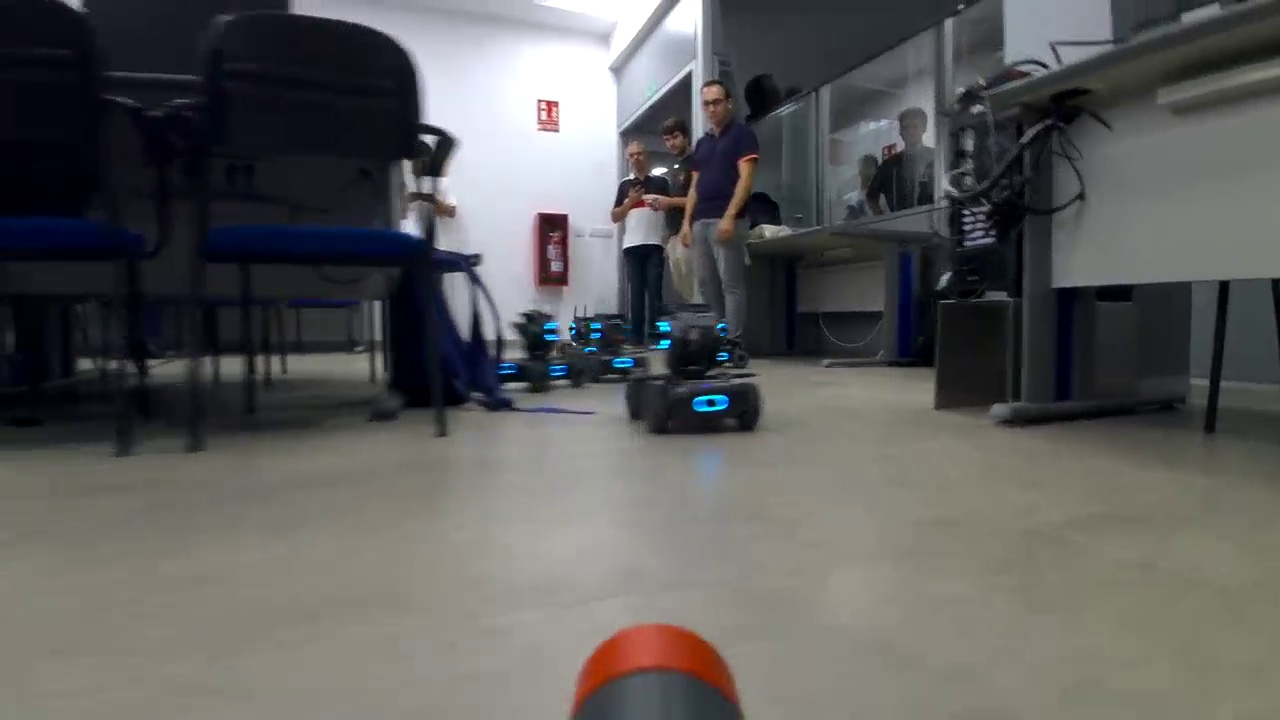robot: (625, 308, 764, 437), (491, 306, 596, 396), (568, 310, 652, 386)
